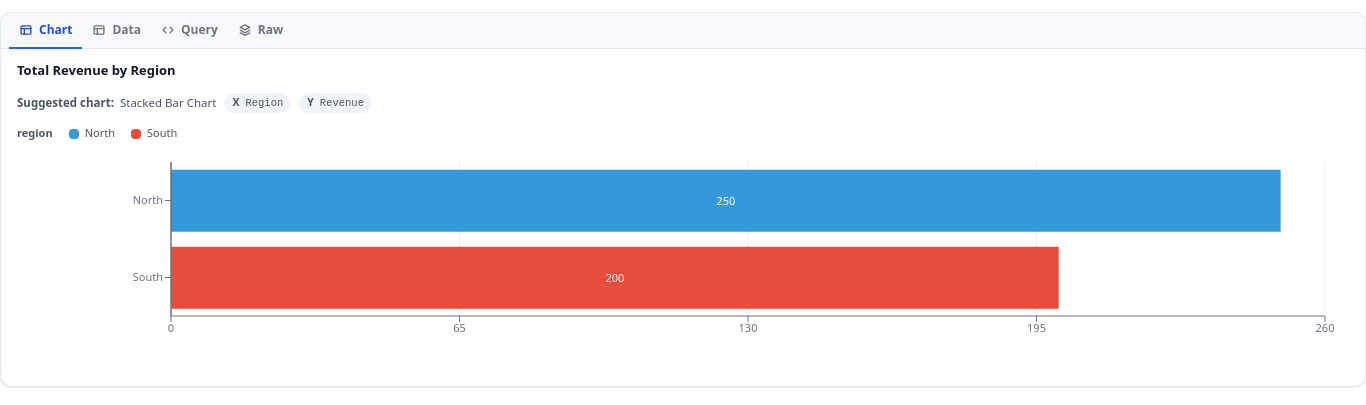
Test: stacked chart through product transport and result card › renders the root live response without changing SQL/rows or flattening series
Expected: the tab "Chart" is shown, [9, 13, 82, 49]
Step 1. Click the tab "Data" → click(117, 31), box [82, 13, 151, 49]
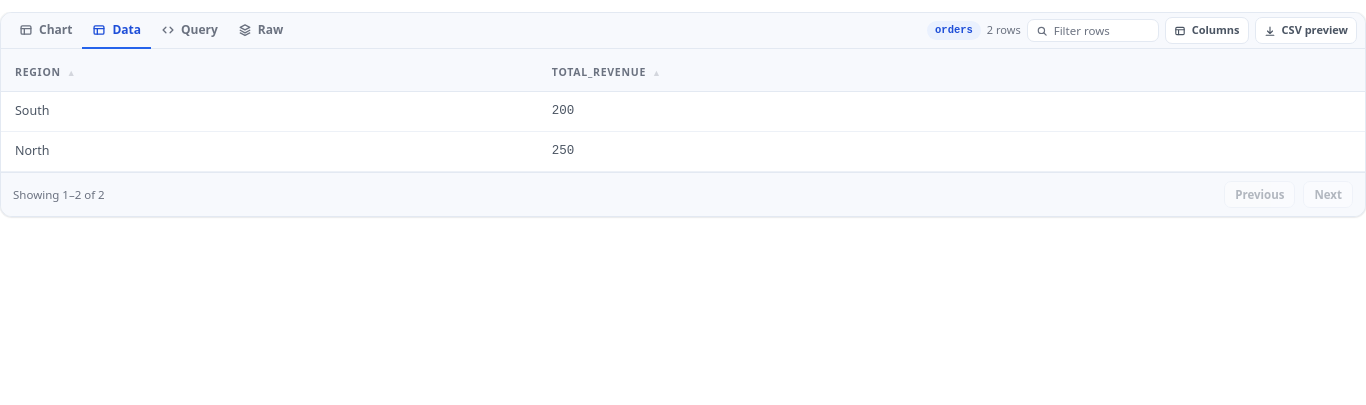
Expected: the cell "250" is shown, [538, 131, 1365, 171]
Expected: the cell "200" is shown, [538, 92, 1365, 131]
Step 2. Click the tab "Query" → click(189, 31), box [151, 13, 228, 49]
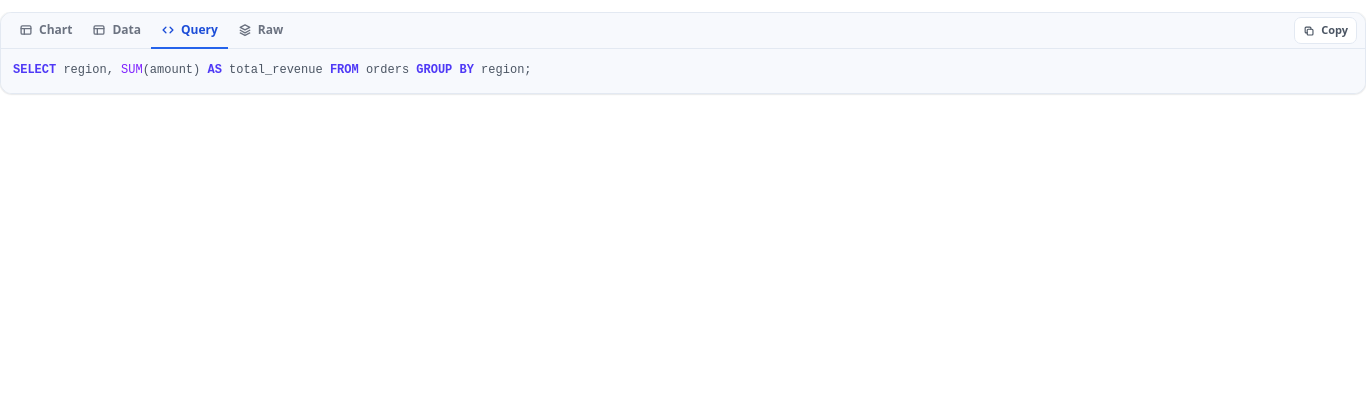
Expected: the text "SUM" is shown, [121, 63, 143, 77]
